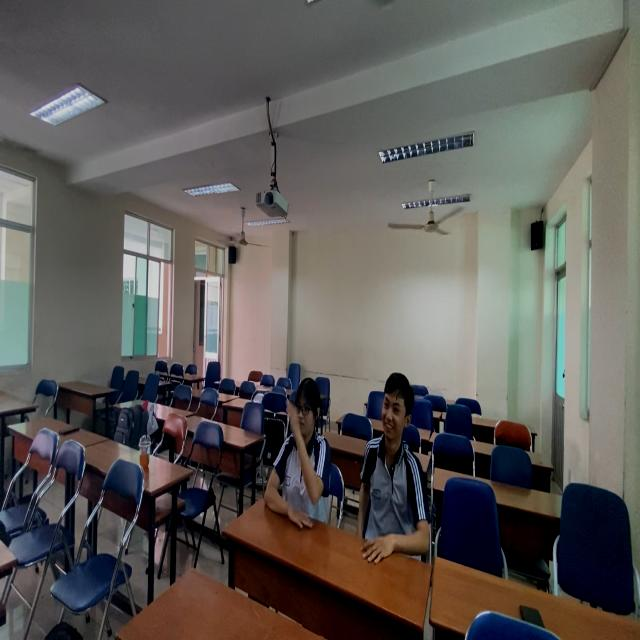raise_hand: (263, 367, 343, 522)
